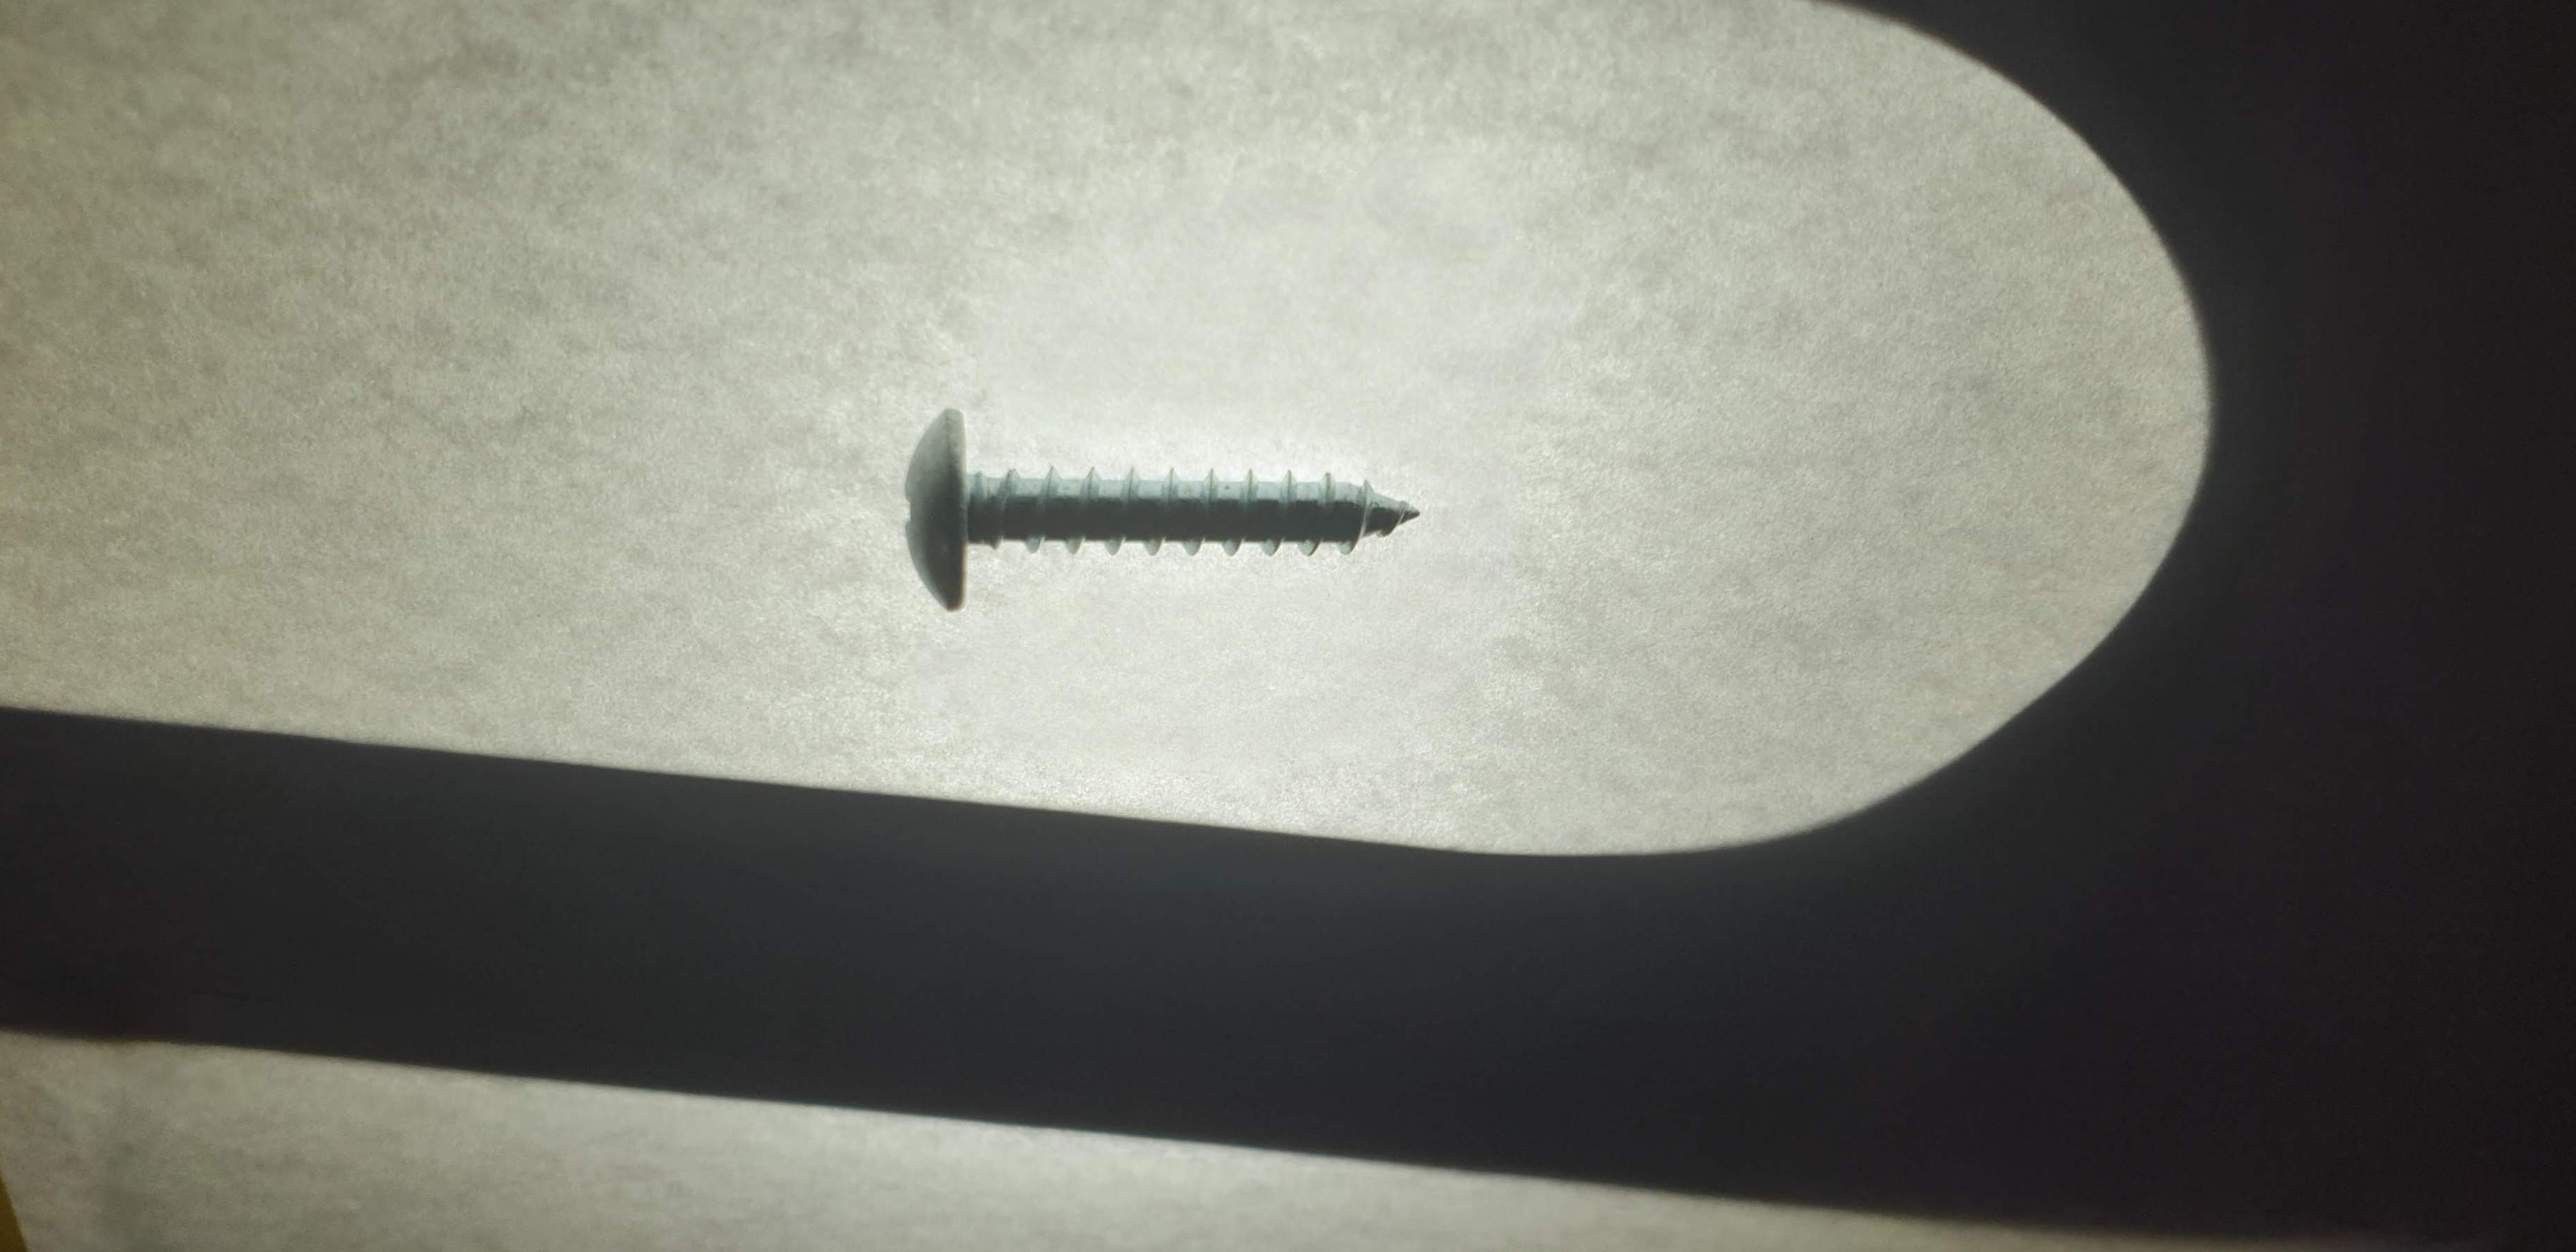S002: (849, 368, 1488, 665)
